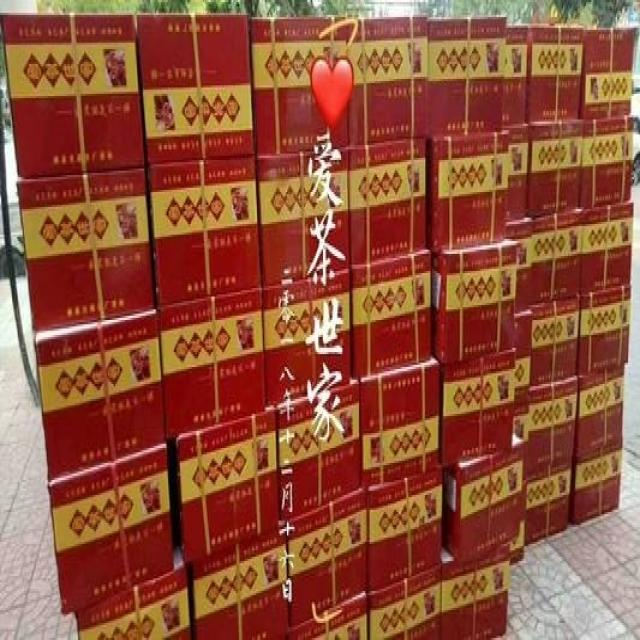box: (34, 311, 166, 482), (17, 169, 154, 329), (49, 444, 174, 614), (138, 15, 255, 164), (150, 160, 262, 307), (157, 292, 267, 439), (177, 410, 279, 563), (250, 17, 349, 156), (259, 151, 349, 288), (263, 271, 351, 407), (277, 384, 360, 521), (193, 523, 289, 640), (76, 546, 192, 640), (346, 17, 429, 147), (288, 489, 366, 627), (432, 241, 516, 363), (360, 361, 439, 489), (351, 252, 431, 375), (443, 444, 524, 565), (349, 139, 426, 265), (367, 469, 442, 593), (429, 17, 507, 134), (433, 132, 509, 252), (441, 350, 516, 467), (442, 546, 508, 640), (527, 26, 585, 122), (525, 380, 578, 484), (581, 28, 639, 117), (528, 122, 584, 213), (530, 211, 582, 307), (370, 570, 441, 640), (575, 367, 626, 463), (581, 117, 633, 207), (581, 205, 633, 294), (579, 288, 630, 375), (532, 299, 580, 386), (291, 591, 367, 638), (526, 469, 572, 544), (575, 454, 622, 527), (501, 26, 528, 126), (513, 314, 532, 442), (508, 220, 532, 314), (508, 128, 528, 222)
